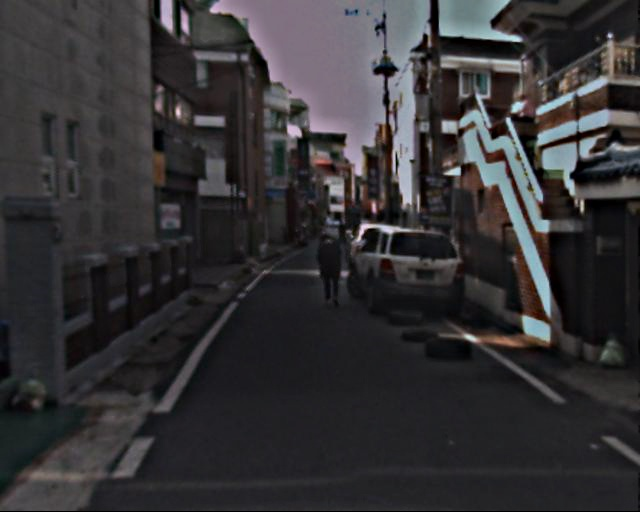person: (317, 234, 348, 309)
